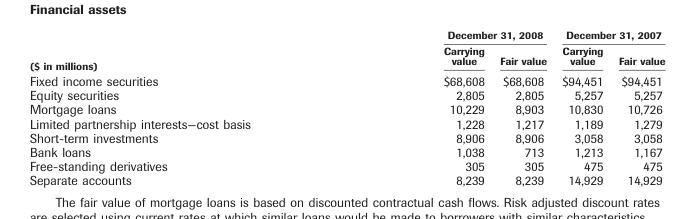table: (28, 28, 664, 187)
table column: (28, 28, 346, 187), (346, 28, 491, 187), (491, 28, 553, 187), (553, 28, 610, 187), (610, 28, 664, 187)
table column header: (28, 28, 664, 72)
table row: (28, 42, 664, 72), (28, 72, 664, 87), (28, 101, 664, 116), (28, 172, 664, 187), (28, 28, 664, 42), (28, 87, 664, 101), (28, 116, 664, 130), (28, 130, 664, 144), (28, 144, 664, 158), (28, 158, 664, 172)
table spanning cell: (28, 28, 346, 72), (346, 28, 553, 42), (553, 28, 664, 42)
